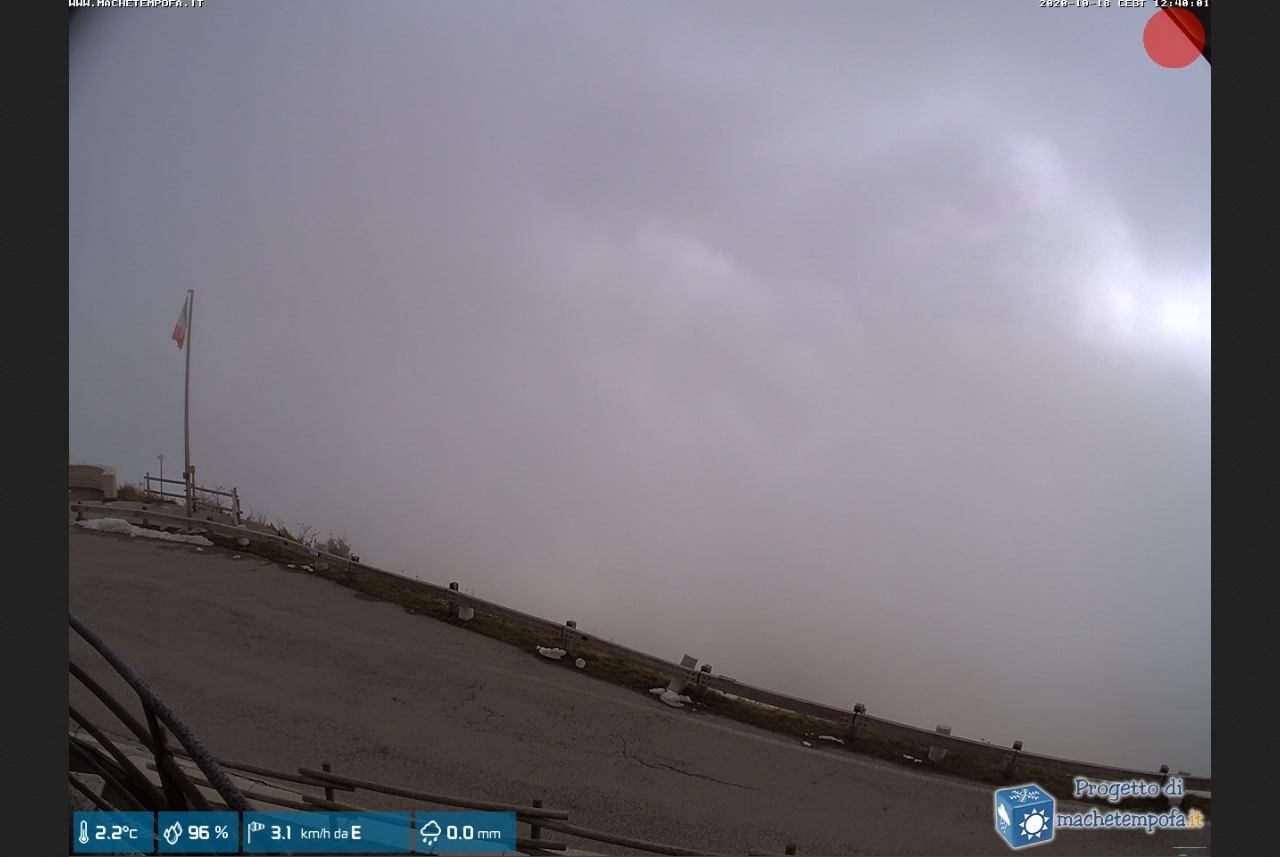no: (168, 282, 197, 351)
